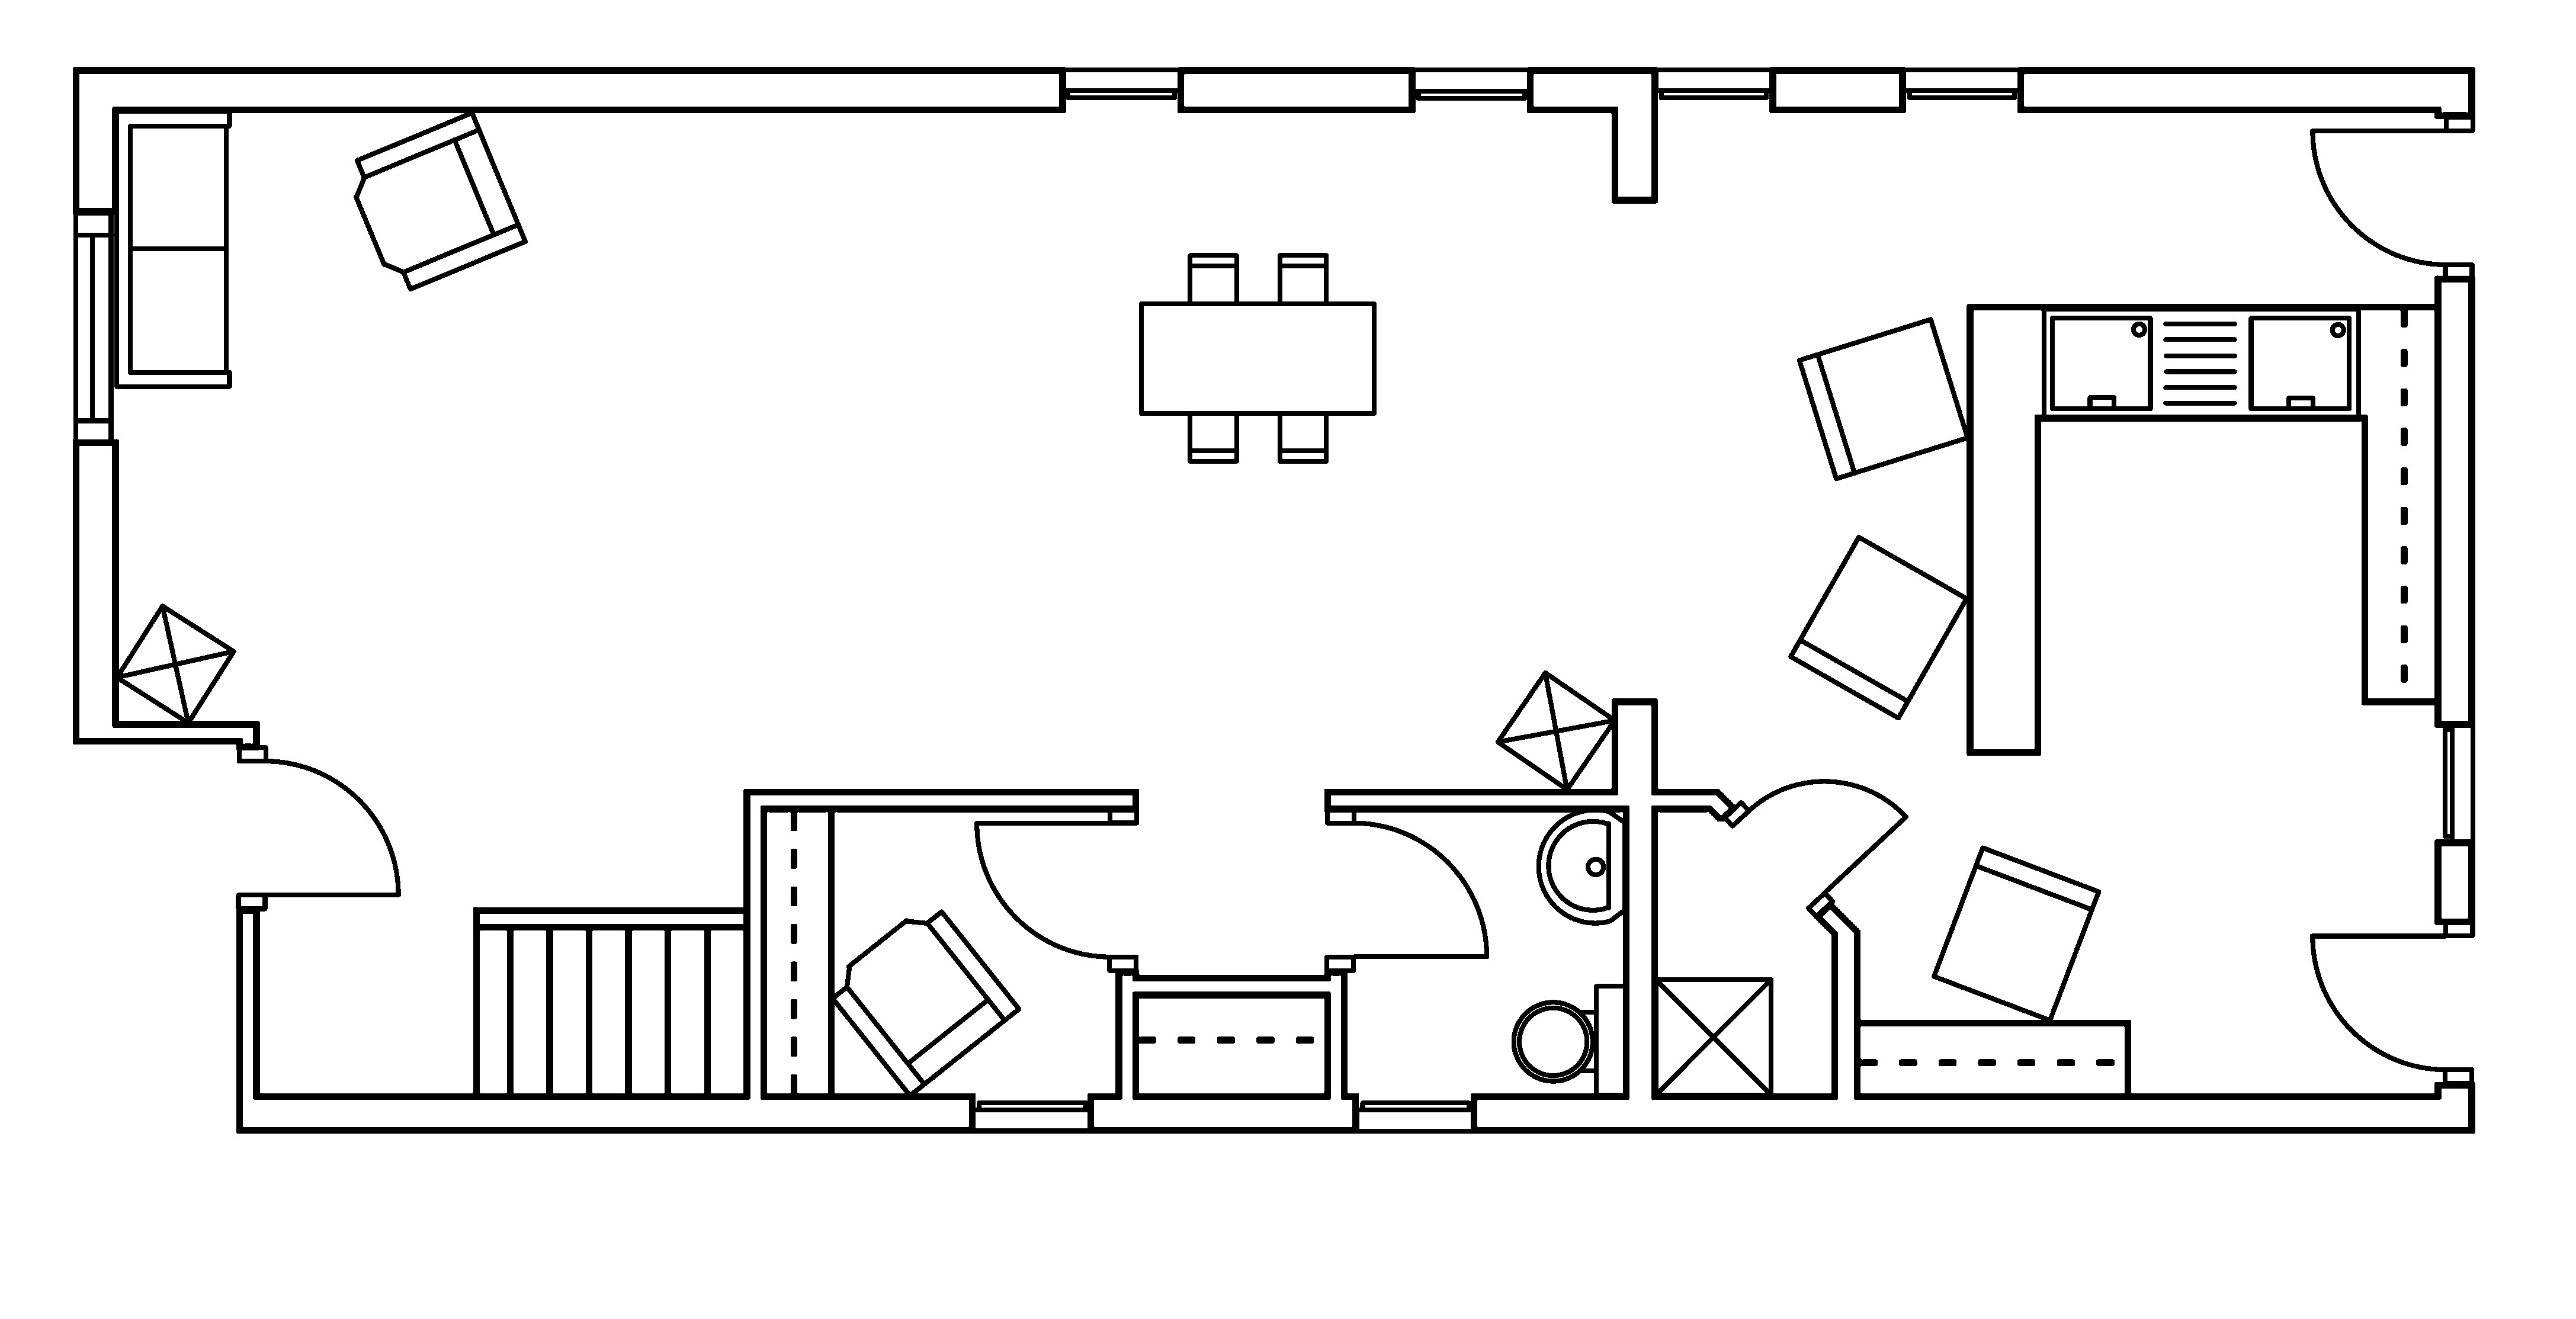armchair: (829, 908, 1021, 1099), (353, 109, 528, 291)
coffee_table: (1493, 670, 1618, 792), (113, 602, 237, 725), (1651, 976, 1774, 1097)
dining_table: (1138, 252, 1377, 464)
large_sink: (1512, 983, 1628, 1097)
large_sofa: (113, 108, 232, 389)
small_sink: (1535, 808, 1628, 925)
small_sofa: (1787, 533, 1969, 720), (1930, 845, 2100, 1023), (1796, 316, 1971, 481)
twin_sink: (2040, 305, 2361, 421)
